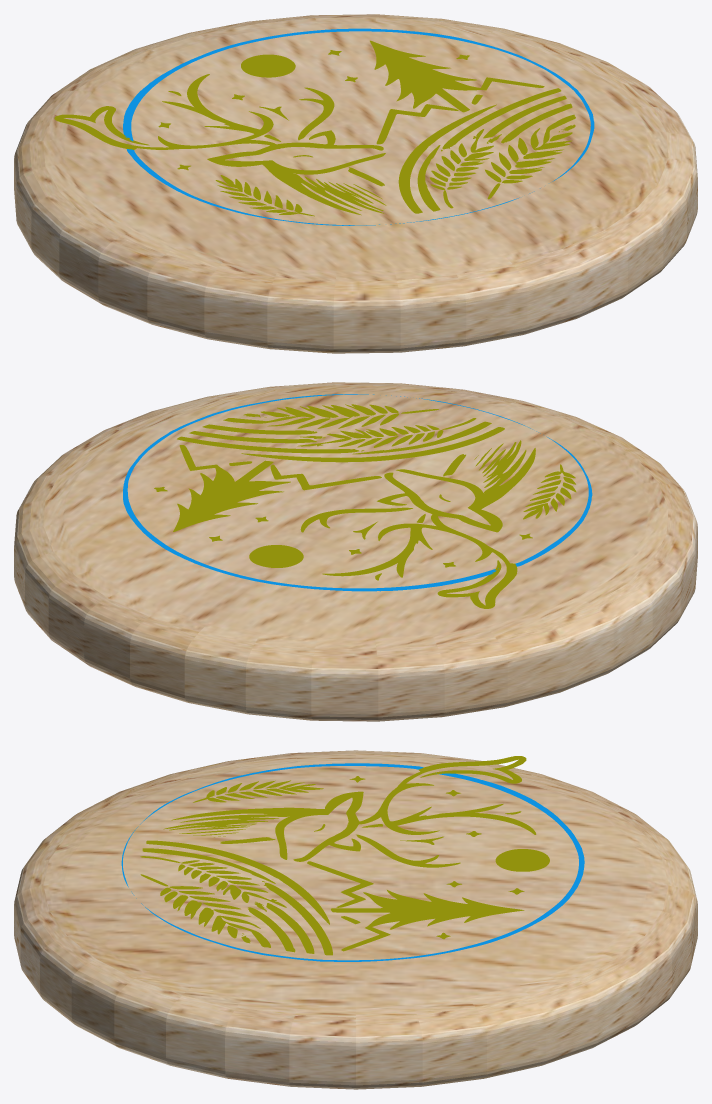
The picture shows the model from 3 angles, top to bottom: view 1: azimuth 30°, elevation 25°; view 2: azimuth 150°, elevation 25°; view 3: azimuth 270°, elevation 25°; orthographic projection.
Parts seen in each view (by area): view 1: Cube, Curve.076, Curve.002, Curve.077, Curve.016, Curve.001, Curve.015, Curve.012, Curve.008, Curve.027, Curve.028, Curve.019; view 2: Cube, Curve.076, Curve.002, Curve.077, Curve.016, Curve.001, Curve.015, Curve.008, Curve.012, Curve.027, Curve.028, Curve.019 (+1 smaller); view 3: Cube, Curve.076, Curve.002, Curve.077, Curve.016, Curve.001, Curve.015, Curve.012, Curve.008, Curve.027, Curve.028, Curve.019.
Boxes of the visible parts, <box> form: Cube: <box>14,14,697,353</box>; Curve.076: <box>54,74,385,215</box>; Curve.002: <box>370,40,544,112</box>; Curve.077: <box>123,28,594,225</box>; Curve.016: <box>398,104,496,213</box>; Curve.001: <box>241,54,295,77</box>; Curve.015: <box>442,88,561,149</box>; Curve.012: <box>376,104,458,144</box>; Curve.008: <box>298,87,334,140</box>; Curve.027: <box>417,145,440,211</box>; Curve.028: <box>530,114,575,150</box>; Curve.019: <box>483,95,566,138</box>; Cube: <box>14,382,697,721</box>; Curve.076: <box>322,440,535,608</box>; Curve.002: <box>173,445,290,531</box>; Curve.077: <box>123,394,592,591</box>; Curve.016: <box>241,427,504,462</box>; Curve.001: <box>249,545,303,567</box>; Curve.015: <box>177,436,358,453</box>; Curve.008: <box>300,507,412,532</box>; Curve.012: <box>270,464,381,490</box>; Curve.027: <box>352,421,491,454</box>; Curve.028: <box>223,407,314,426</box>; Curve.019: <box>189,431,316,443</box>; Cube: <box>14,750,697,1089</box>; Curve.076: <box>163,756,536,861</box>; Curve.002: <box>331,890,524,951</box>; Curve.077: <box>121,763,584,961</box>; Curve.016: <box>146,840,329,924</box>; Curve.001: <box>495,849,549,871</box>; Curve.015: <box>264,882,332,955</box>; Curve.012: <box>307,861,373,907</box>; Curve.008: <box>356,834,460,867</box>; Curve.027: <box>142,848,275,883</box>; Curve.028: <box>211,915,270,947</box>; Curve.019: <box>266,903,314,953</box>.
Bounding box in the file's own units: 0.0625 × 0.00987 × 0.0625.
79 materials, 1 textured.
